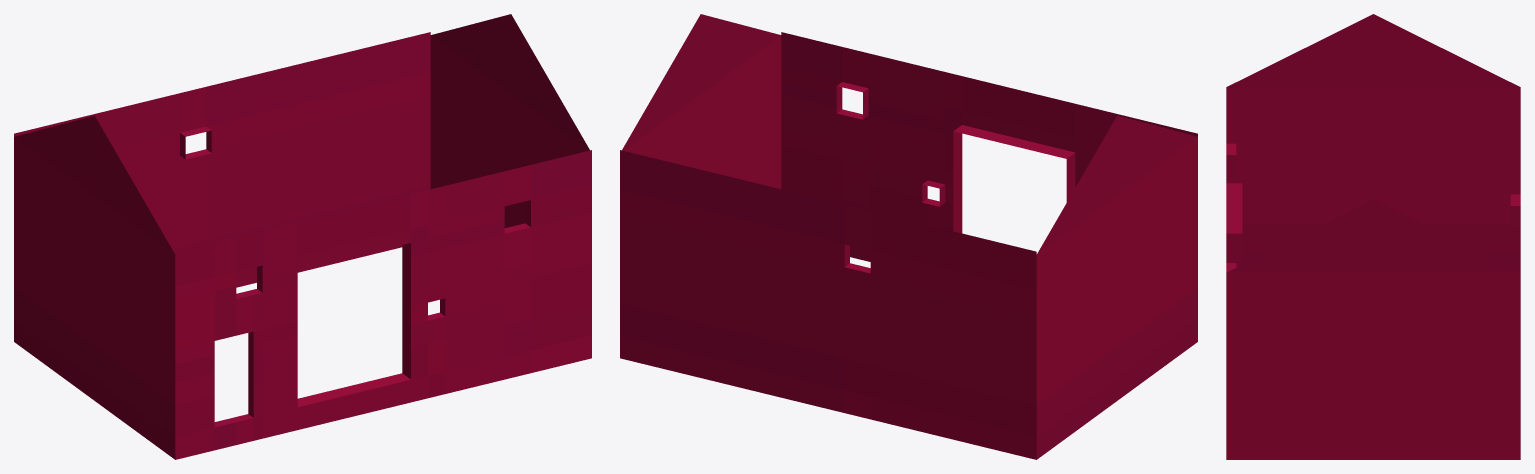
The model's file is SM_Bld_238_Masonry.glb.
3 renders of one model, left to right at view 1: azimuth 30°, elevation 25°; view 2: azimuth 150°, elevation 25°; view 3: azimuth 270°, elevation 25°, orthographic. The views are drawn at different scales.
Parts seen in each view (by area): view 1: SM_Bld_238_Masonry; view 2: SM_Bld_238_Masonry; view 3: SM_Bld_238_Masonry.
Part boxes in pixels (<box>): SM_Bld_238_Masonry: <box>14,14,591,459</box>; SM_Bld_238_Masonry: <box>620,14,1197,459</box>; SM_Bld_238_Masonry: <box>1226,14,1520,459</box>.
Size of the model in its own units: 9.56 by 6.26 by 6.41.
